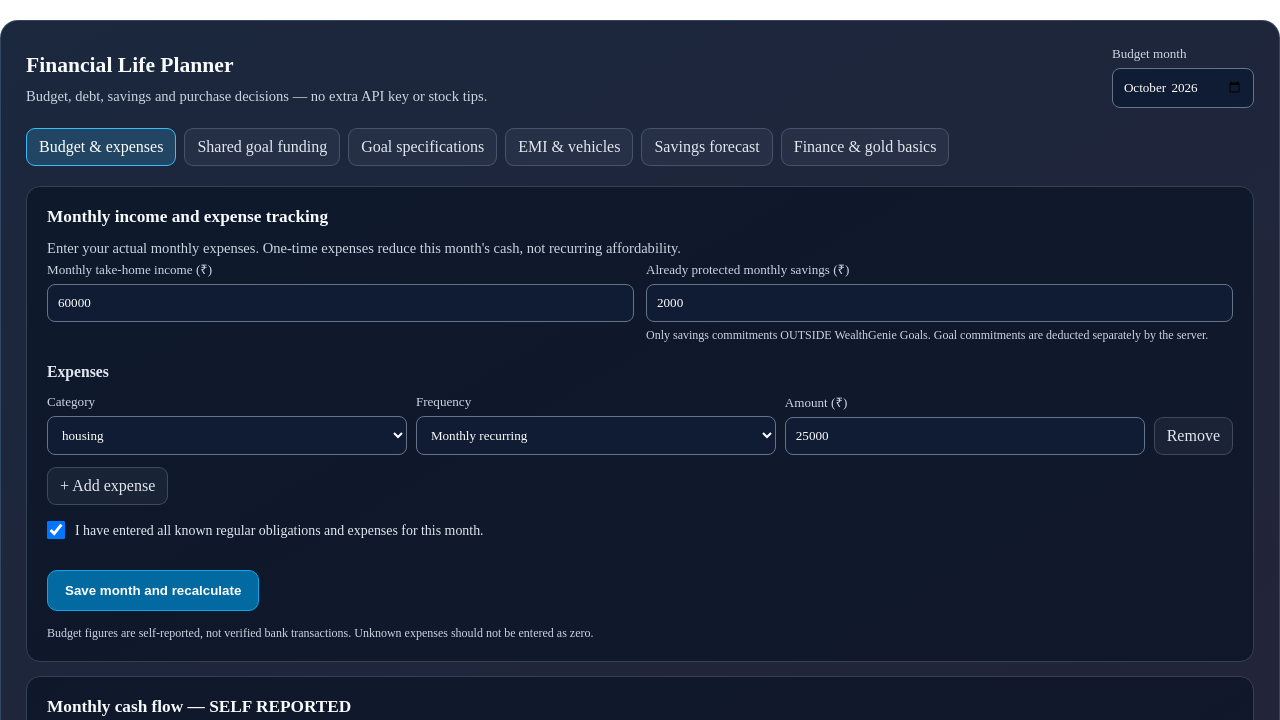
Goal financial workspace — keyless budget and purchase flows › blocks vehicle assessments against unsaved budget edits
Expected: the heading "Monthly income and expense tracking" is shown, [47,207,328,226]
Replace the text in the number field labelled "Monthly take-home income (₹)" with "20000" at x=340, y=303, box [47,284,634,322]
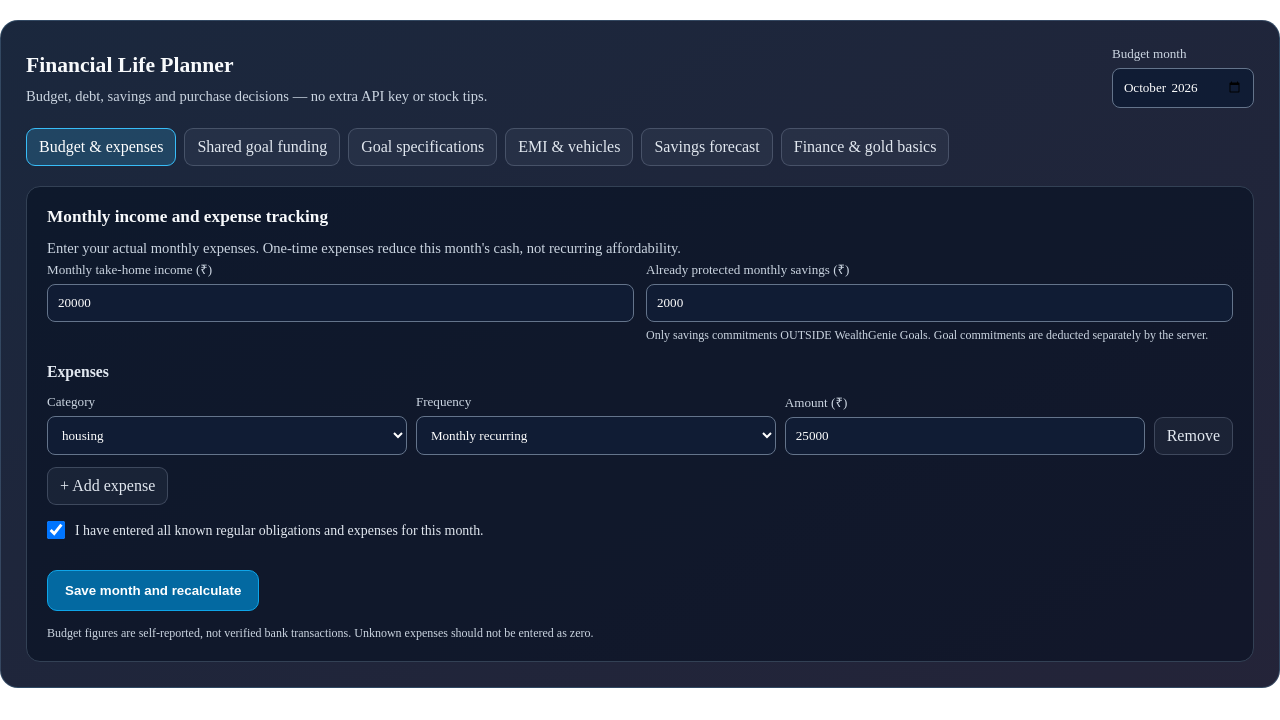
Click the button "EMI & vehicles" at x=569, y=147, box [505,128,634,166]
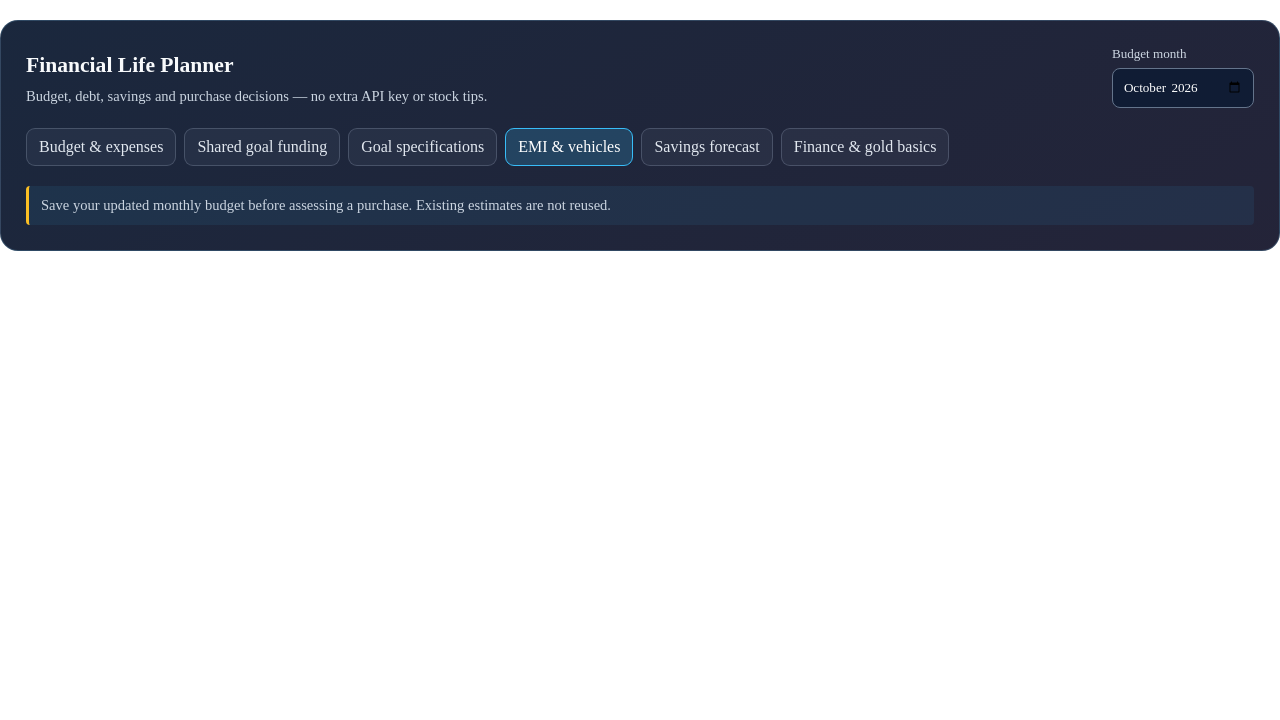
Now the text "Save your updated monthly budget before assessing a purchase" is shown, box [41,197,611,213]
